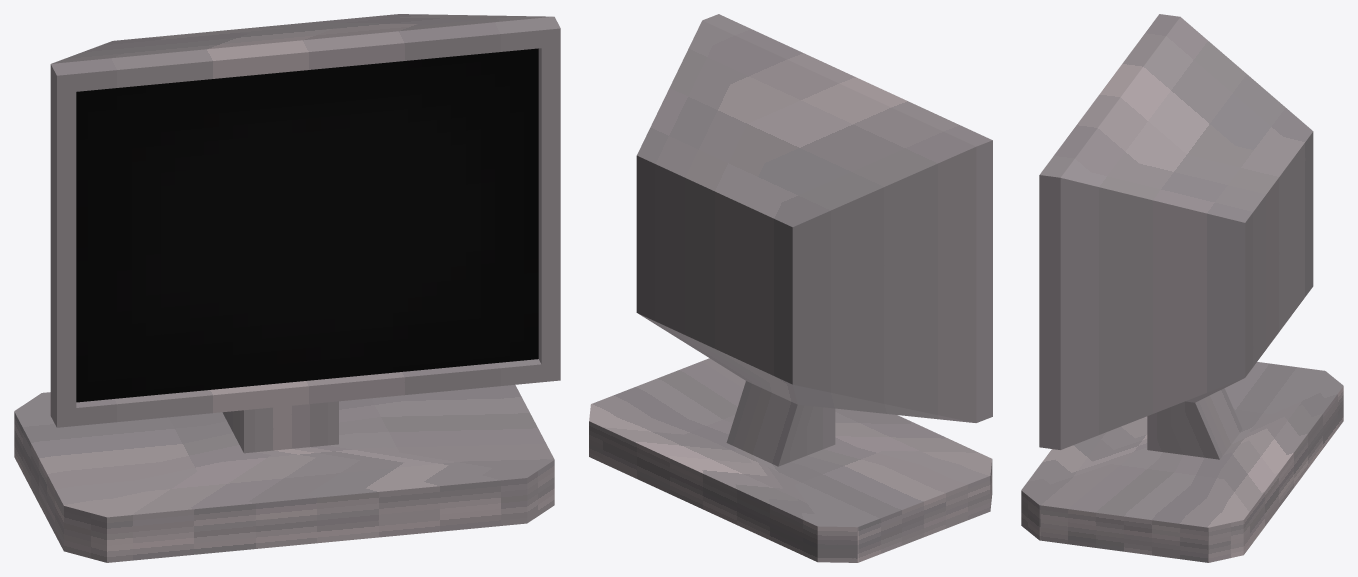
3 views of the same model, side by side, from view 1: azimuth 30°, elevation 25°; view 2: azimuth 150°, elevation 25°; view 3: azimuth 270°, elevation 25° (orthographic). The views are drawn at different scales.
Visible parts, largest first — view 1: PC; view 2: PC; view 3: PC.
Part boxes in pixels (left/top/right/bottom): PC: left=14, top=14, right=560, bottom=562; PC: left=589, top=14, right=992, bottom=562; PC: left=1021, top=14, right=1343, bottom=562.
Size of the model in its own units: 0.9458 by 0.8952 by 0.7117.
Materials: 2 (2 with a texture image).
